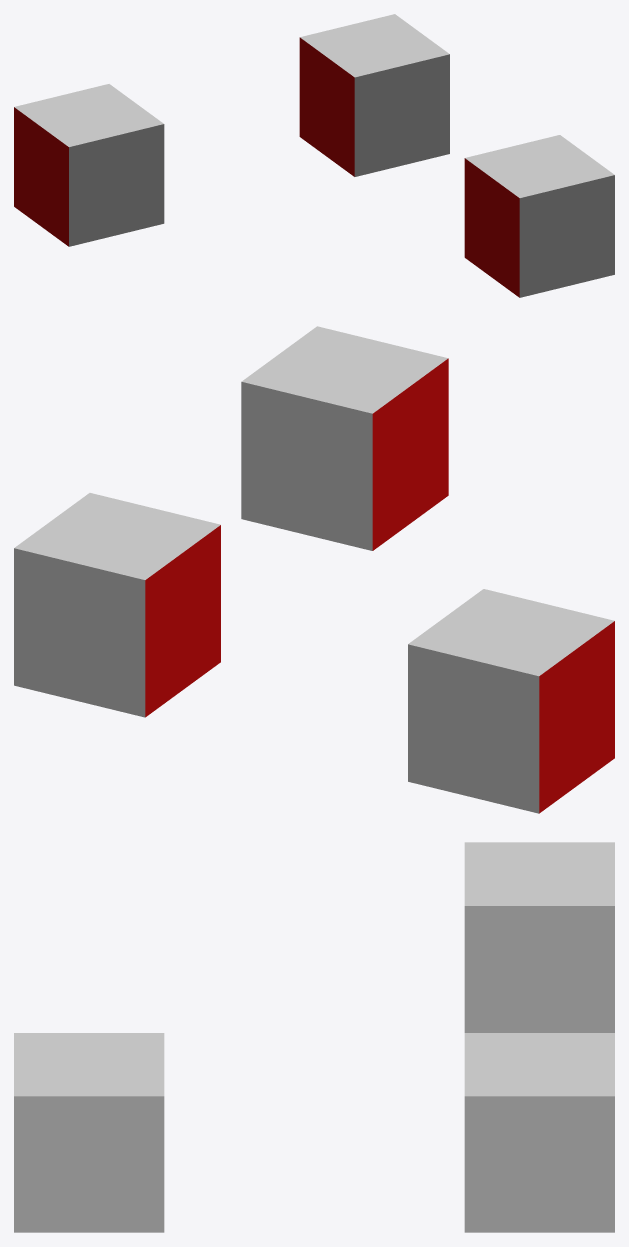
The model's file is stereo.dae.
3 renders of one model, top to bottom at view 1: azimuth 30°, elevation 25°; view 2: azimuth 150°, elevation 25°; view 3: azimuth 270°, elevation 25°, orthographic. The views are drawn at different scales.
Visible parts, largest first — view 1: cube_component (×9); view 2: cube_component (×6); view 3: cube_component (×3).
Part boxes in pixels (x1,y1,x2,y2): cube_component (×9): (14,14,614,297); cube_component (×6): (14,326,614,813); cube_component (×3): (14,842,614,1232).
Bounding box in the file's own units: 157 × 157 × 39.37.
